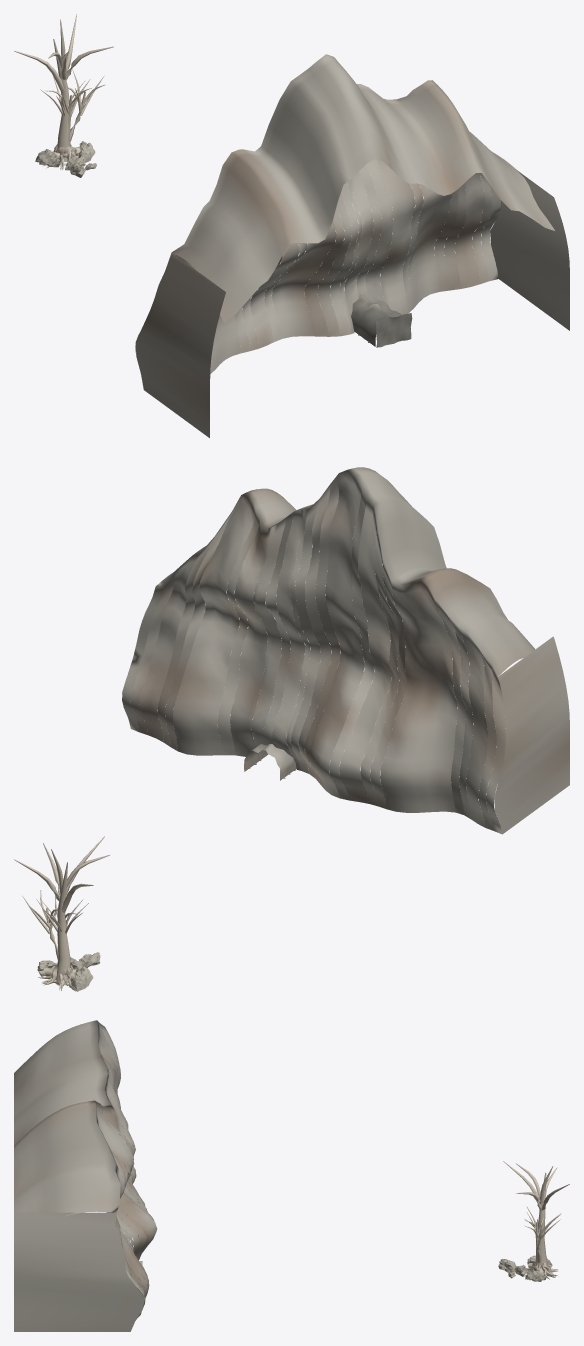
The model's file is landmarks-low.glb.
3 views of the same model, one above another, from view 1: azimuth 30°, elevation 25°; view 2: azimuth 150°, elevation 25°; view 3: azimuth 270°, elevation 25° (orthographic). The views are drawn at different scales.
Visible parts, largest first — view 1: southern-cliff-rock-far, ancient-fig-wood-far, moss-gates-rock-far; view 2: southern-cliff-rock-far, ancient-fig-wood-far, moss-gates-rock-far; view 3: southern-cliff-rock-far, ancient-fig-wood-far, moss-gates-rock-far.
Boxes of the visible parts, left/top/right/bottom form: southern-cliff-rock-far: left=135, top=54, right=569, bottom=437; ancient-fig-wood-far: left=14, top=14, right=113, bottom=169; moss-gates-rock-far: left=35, top=142, right=96, bottom=177; southern-cliff-rock-far: left=122, top=467, right=569, bottom=834; ancient-fig-wood-far: left=14, top=836, right=109, bottom=991; moss-gates-rock-far: left=39, top=952, right=100, bottom=991; southern-cliff-rock-far: left=14, top=1020, right=157, bottom=1331; ancient-fig-wood-far: left=503, top=1161, right=569, bottom=1279; moss-gates-rock-far: left=498, top=1255, right=552, bottom=1281.
Size of the model in its own units: 82 by 67.24 by 134.
